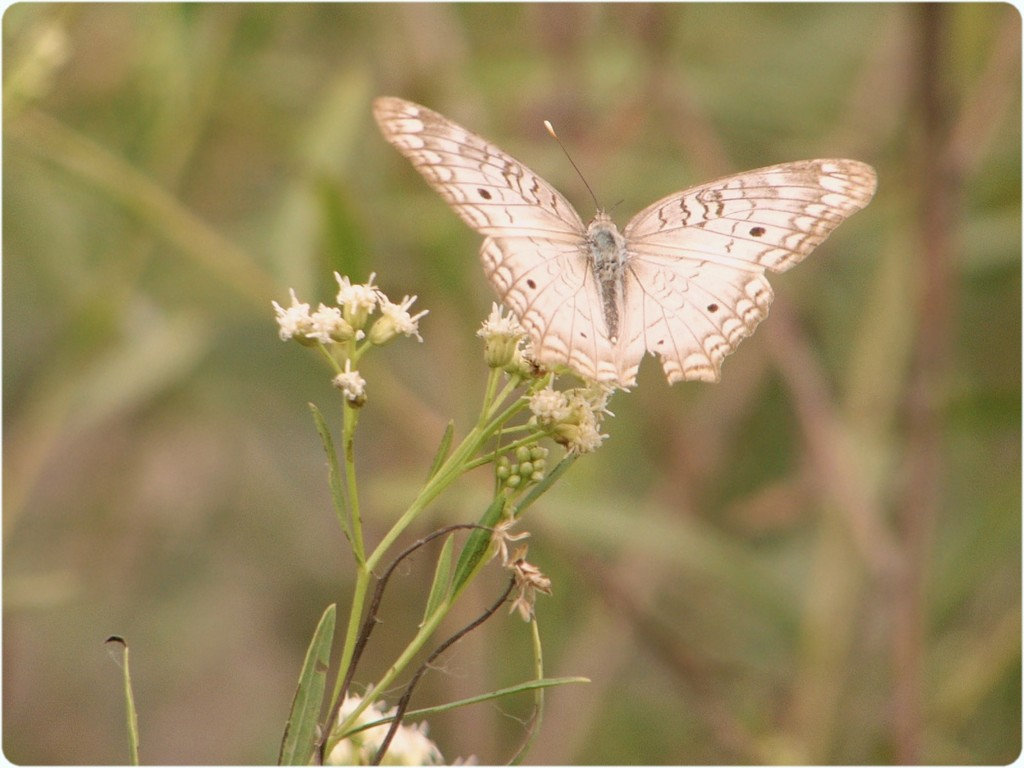Butterfly: (359, 62, 904, 381)
